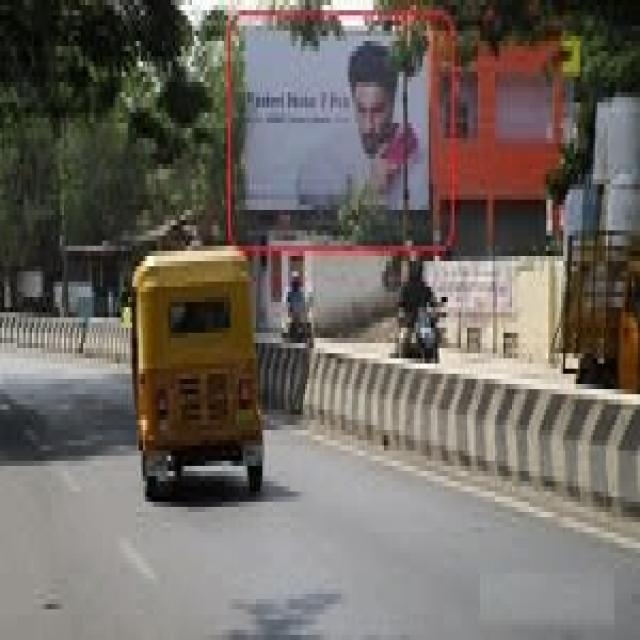Werbetafel frei: (237, 18, 432, 230)
